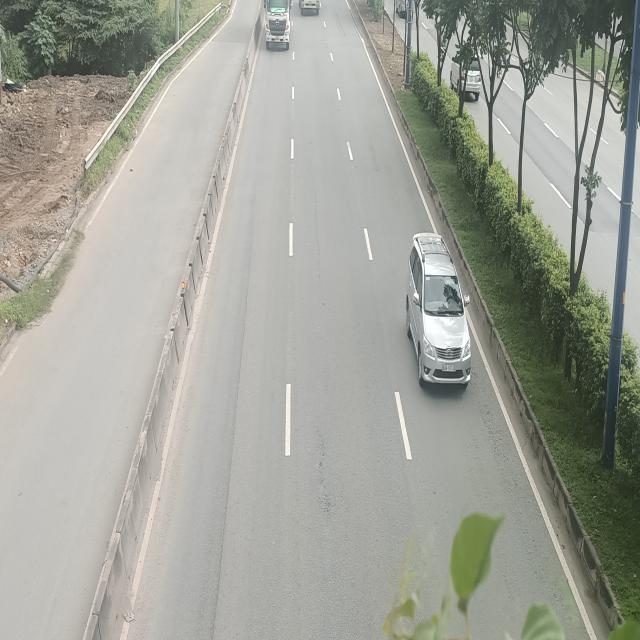car: (404, 231, 470, 387)
truck: (264, 0, 292, 48)
